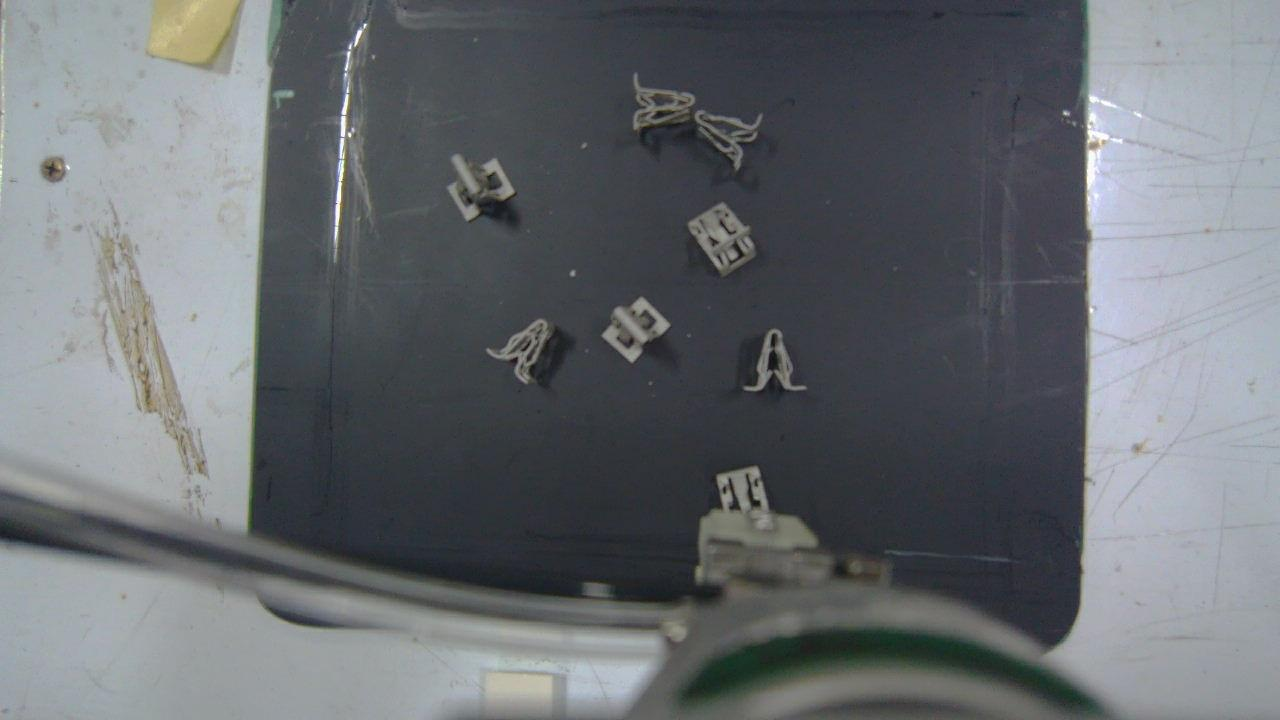ng: (689, 199, 759, 279), (489, 319, 555, 390), (631, 72, 693, 135), (744, 329, 808, 390), (698, 111, 763, 168), (717, 466, 771, 513)
pass: (601, 297, 671, 365), (446, 154, 516, 221)
